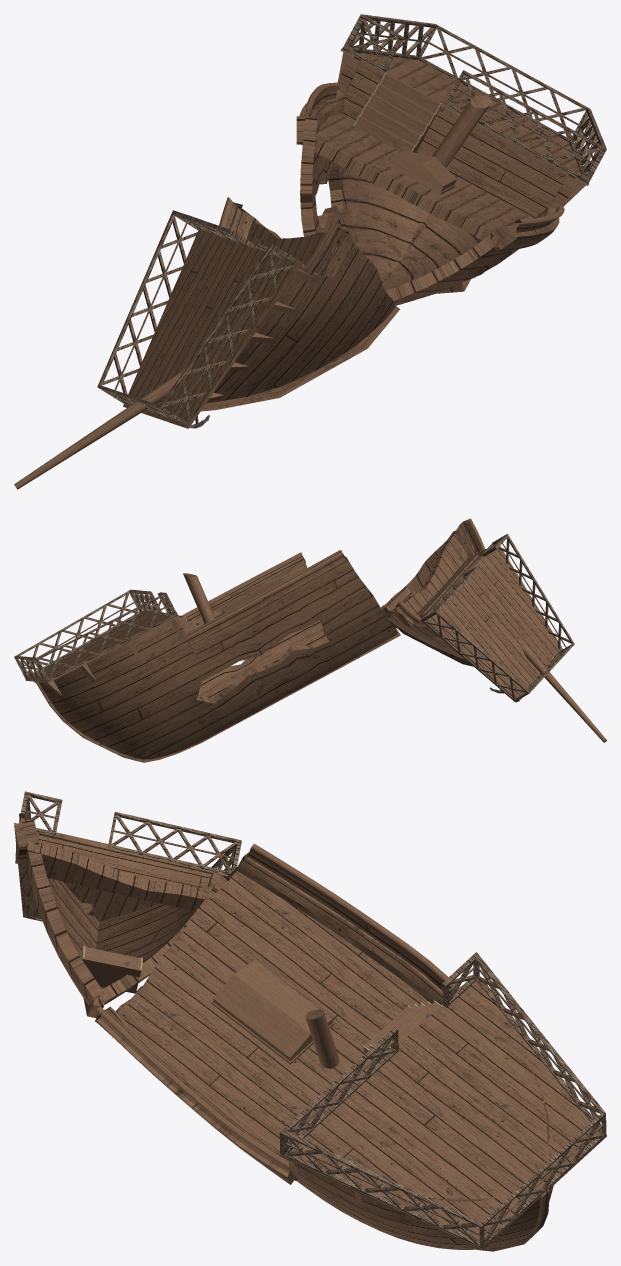
Rendered from Wreck.Cog.01_WRECK.fbx.
3 renders of one model, top to bottom at view 1: azimuth 30°, elevation 25°; view 2: azimuth 150°, elevation 25°; view 3: azimuth 270°, elevation 25°, orthographic. The views are drawn at different scales.
Visible parts, largest first — view 1: Shipwreck.001, Shipwreck; view 2: Shipwreck.001, Shipwreck; view 3: Shipwreck.001, Shipwreck.
Part boxes in pixels (left/top/right/bottom): Shipwreck.001: left=296, top=14, right=606, bottom=305; Shipwreck: left=14, top=197, right=400, bottom=489; Shipwreck.001: left=14, top=550, right=400, bottom=762; Shipwreck: left=381, top=518, right=606, bottom=742; Shipwreck.001: left=95, top=843, right=606, bottom=1251; Shipwreck: left=14, top=791, right=241, bottom=1018.
Size of the model in its own units: 1642 by 626 by 1099.
